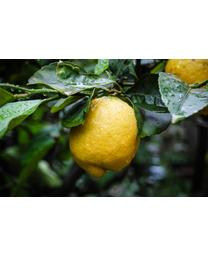lemon: (67, 96, 139, 181)
